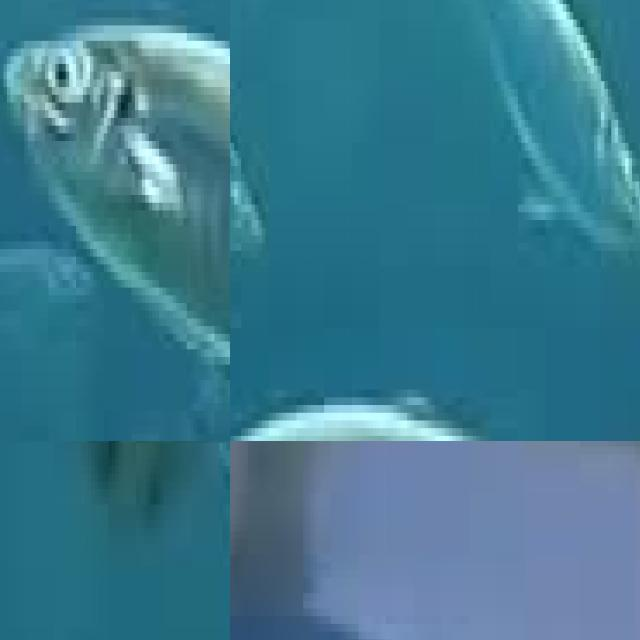fish: (0, 0, 230, 441), (358, 441, 640, 640)
